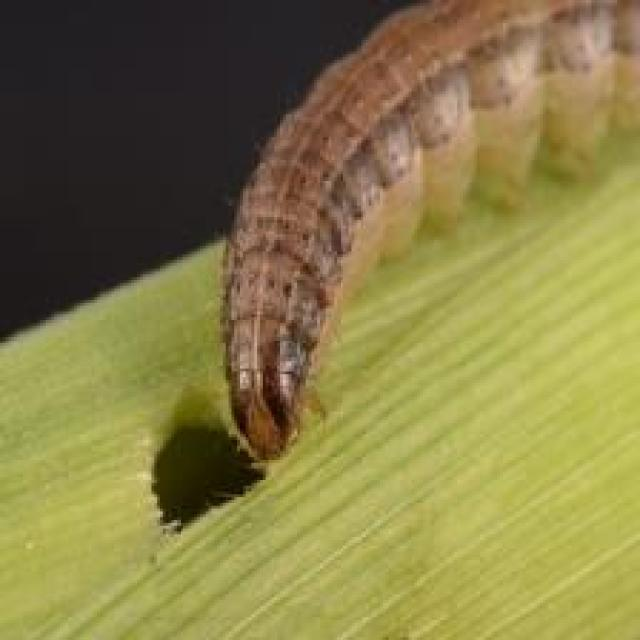Plaga: (215, 7, 640, 467)
